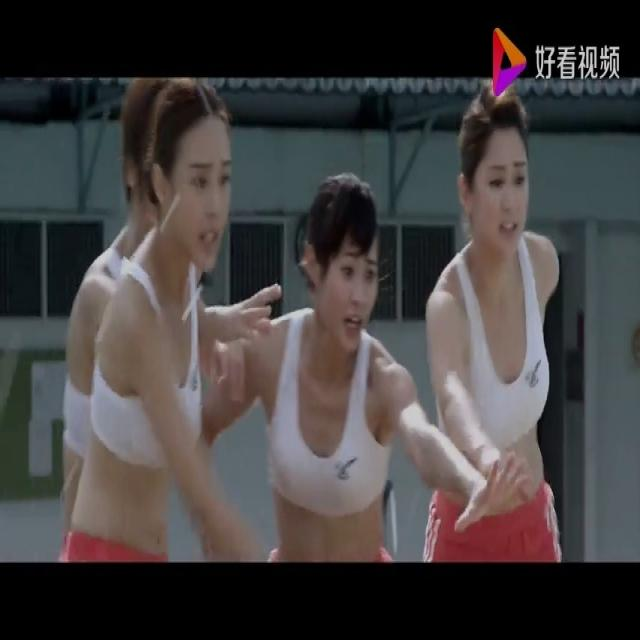non-fight: (202, 156, 531, 562), (56, 78, 276, 556), (416, 79, 567, 562)
